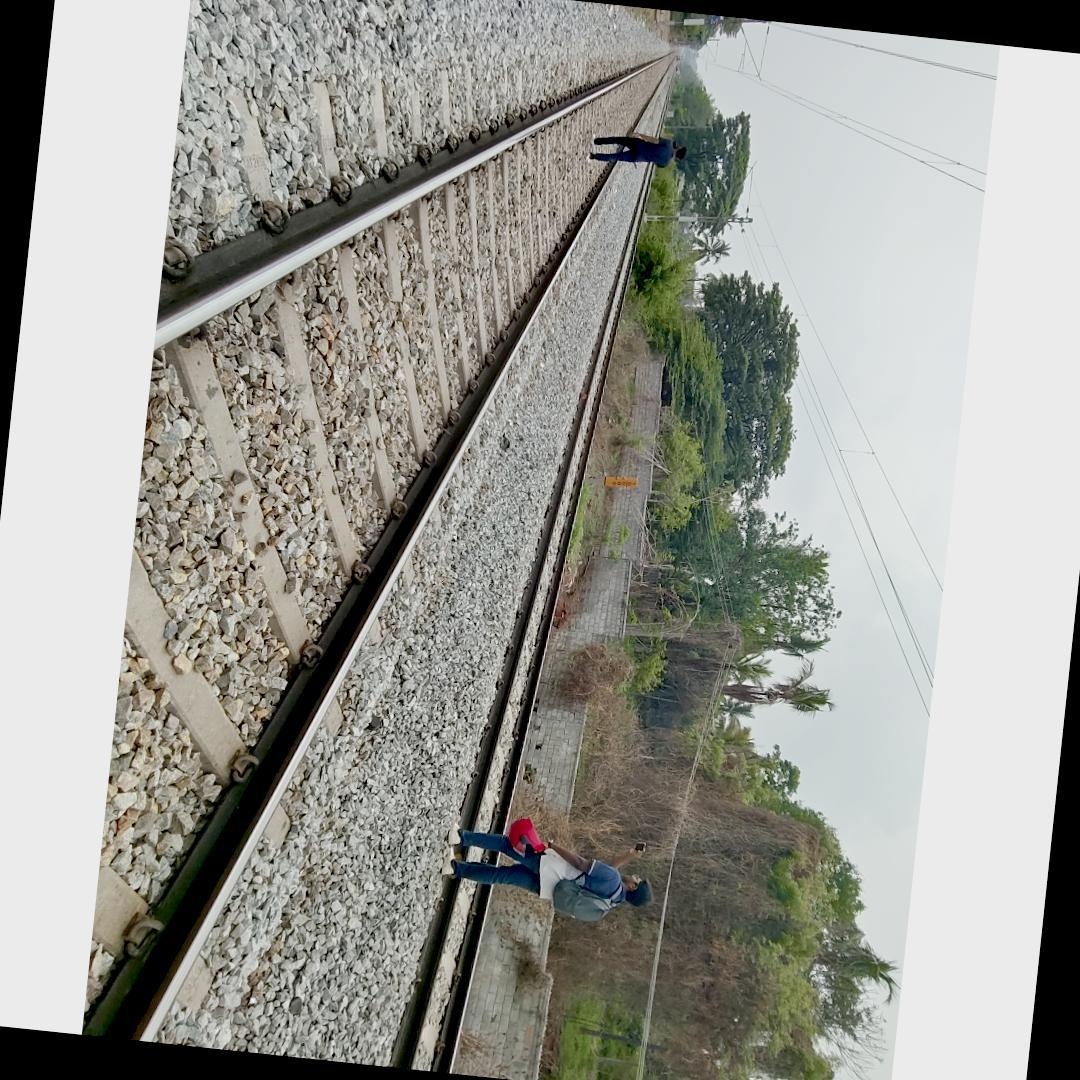standing: (437, 818, 660, 928), (588, 125, 689, 173)
track: (81, 39, 679, 1048)
